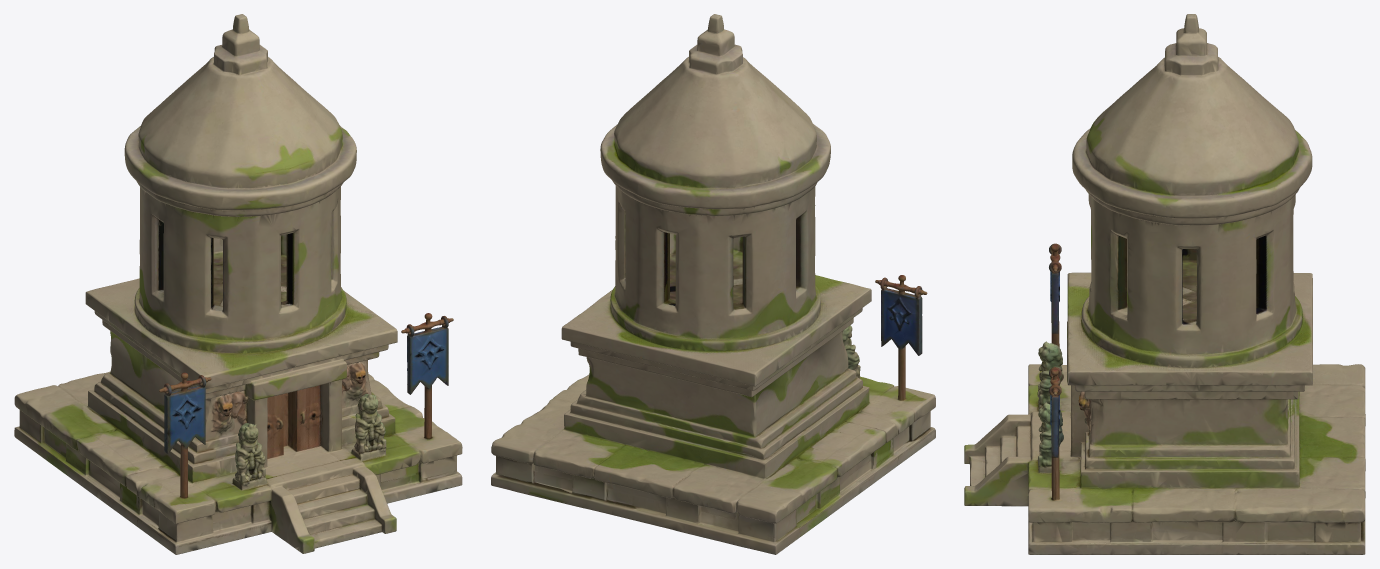
Rendered from archer_tower_lite.glb.
The picture shows the model from 3 angles, left to right: view 1: azimuth 30°, elevation 25°; view 2: azimuth 150°, elevation 25°; view 3: azimuth 270°, elevation 25°; orthographic projection. The views are drawn at different scales.
Bounding box in the file's own units: 1.31 × 1.9 × 1.48.
Materials: 1 (1 with a texture image).
